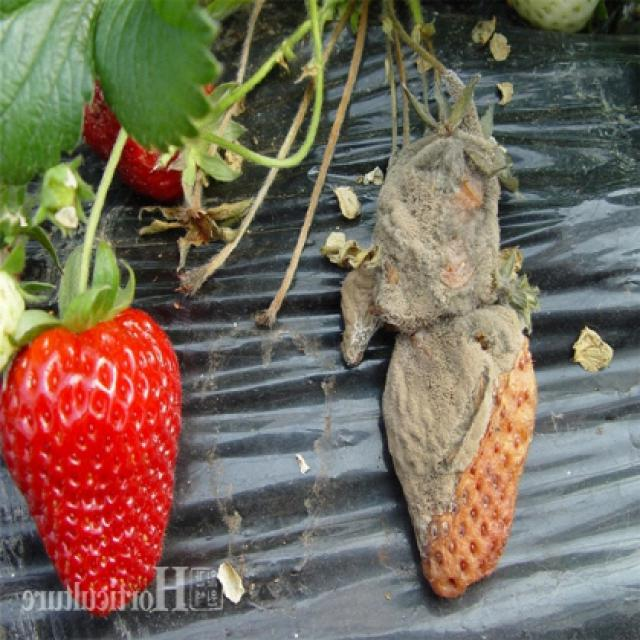Gray Mold: (382, 249, 541, 600), (365, 124, 508, 337), (334, 256, 388, 370)
